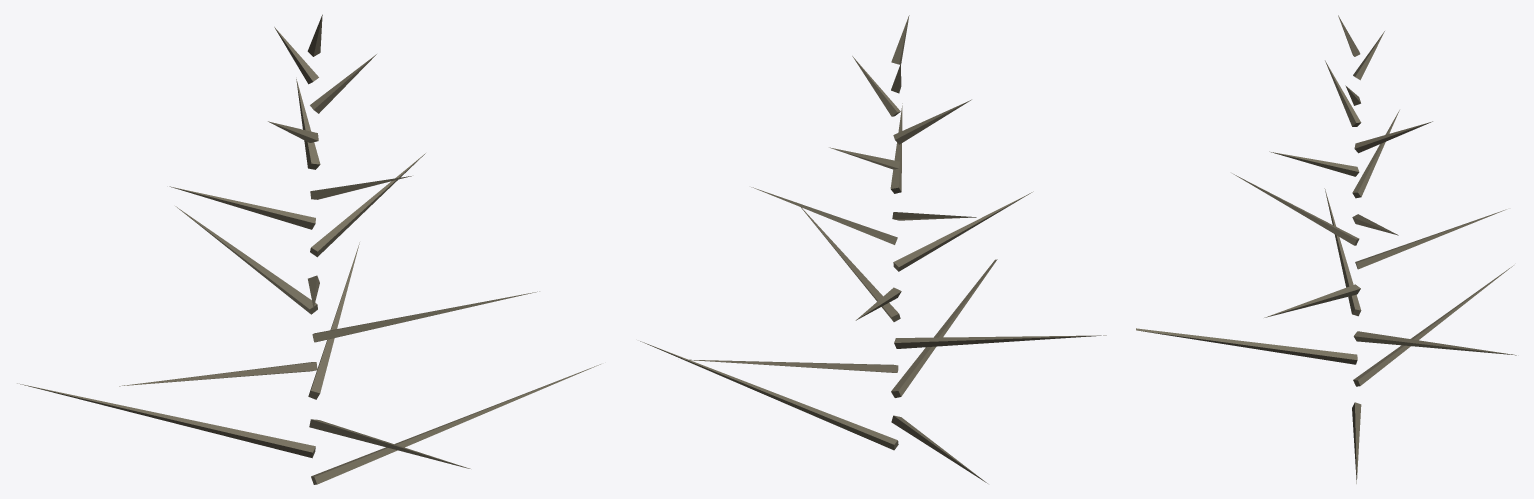
File: teaching3-vegetation-05-medium.glb
3 renders of one model, left to right at view 1: azimuth 30°, elevation 25°; view 2: azimuth 150°, elevation 25°; view 3: azimuth 270°, elevation 25°, orthographic. The views are drawn at different scales.
Parts seen in each view (by area): view 1: vegetation cedar branches; view 2: vegetation cedar branches; view 3: vegetation cedar branches.
Boxes of the visible parts, x1,y1,x2,y2 form: vegetation cedar branches: (17, 14, 600, 484); vegetation cedar branches: (640, 15, 1106, 483); vegetation cedar branches: (1136, 15, 1516, 483).
Bounding box in the file's own units: 8.97 × 8.09 × 7.11.
